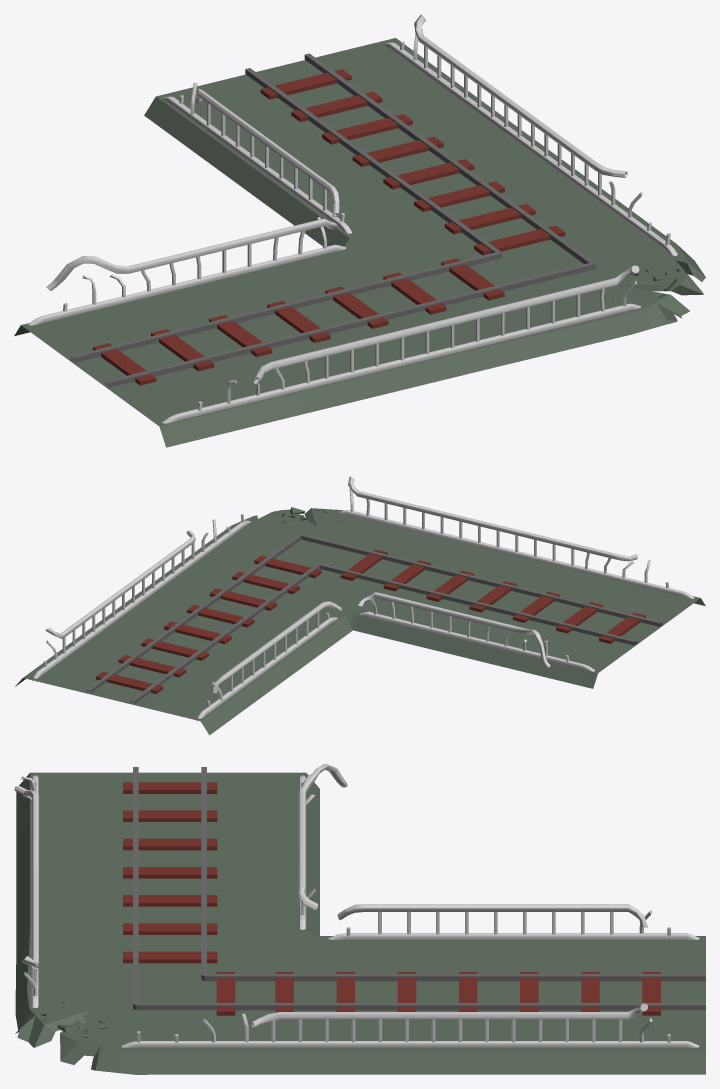
Rendered from F_TurnLeft_01.fbx.
3 views of the same model, one above another, from view 1: azimuth 30°, elevation 25°; view 2: azimuth 150°, elevation 25°; view 3: azimuth 270°, elevation 25° (orthographic). The views are drawn at different scales.
Visible parts, largest first — view 1: pCube119; view 2: pCube119; view 3: pCube119.
Part boxes in pixels (box(x1,y1,x2,y2)): pCube119: box(14, 14, 705, 447); pCube119: box(15, 476, 705, 735); pCube119: box(14, 764, 705, 1074).
Bounding box in the file's own units: 123 × 12.9 × 125.
